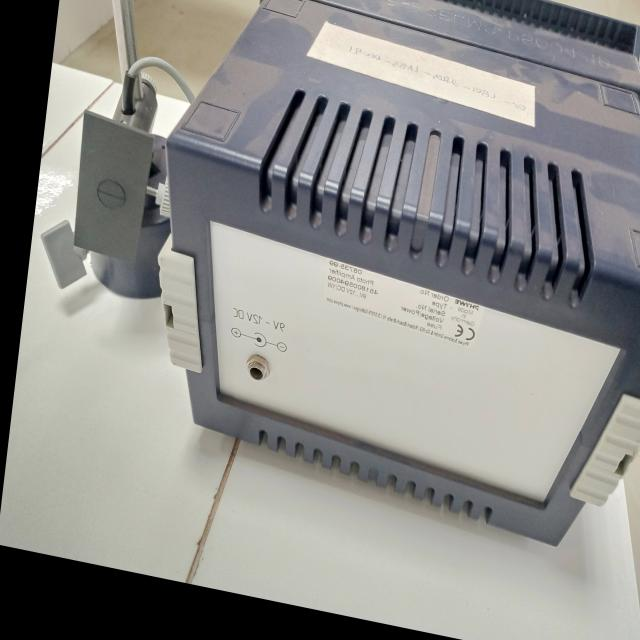Photo Amplifier Power Supply: (56, 0, 640, 589)
